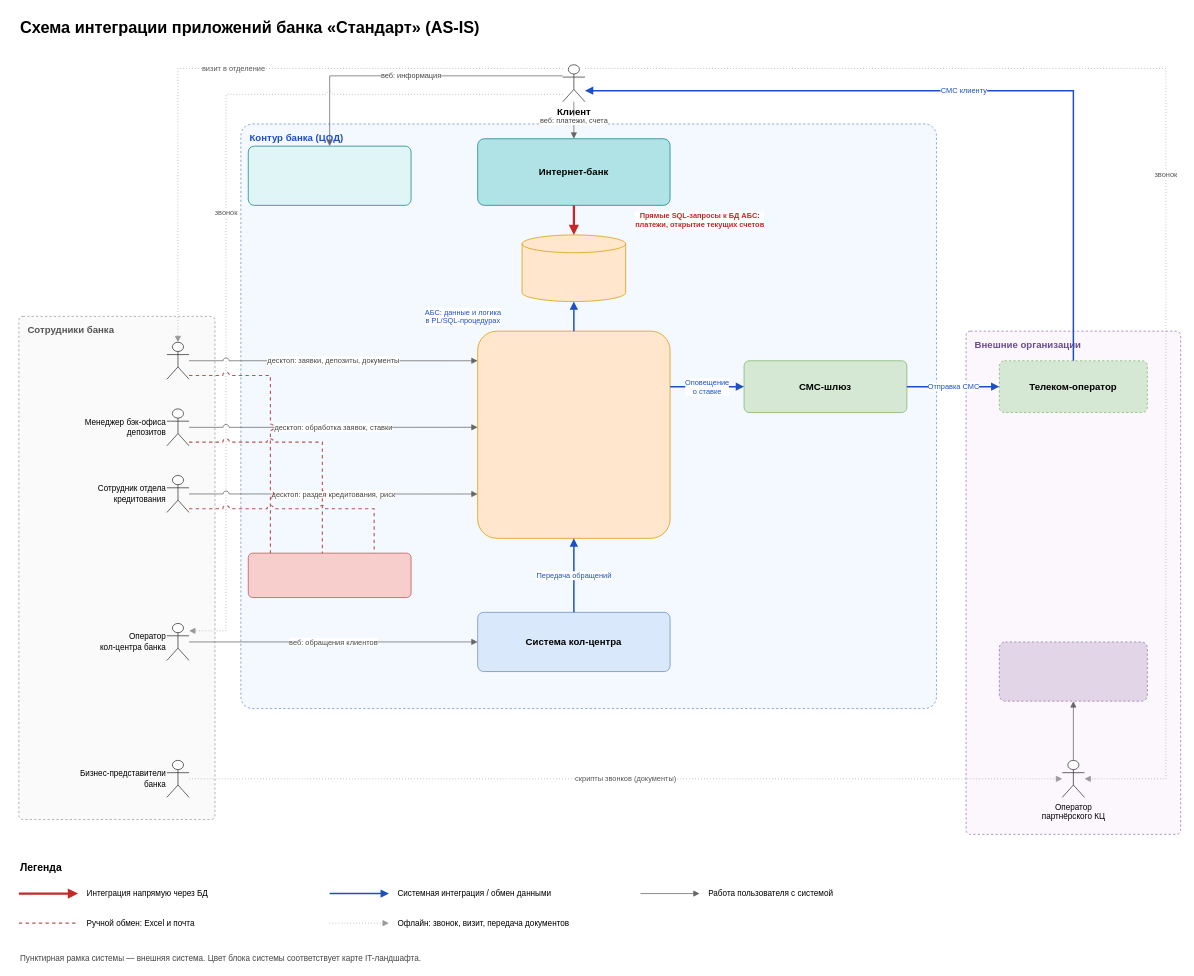
This 1194x976 diagram has some shape labels left out. The centre of each missing label's shape, as x and y in pixels:
"Excel / корпоративная почта" belongs at point (329, 575).
"АБС" belongs at point (573, 434).
"БД АБС Oracle" belongs at point (573, 268).
"Сайт" belongs at point (329, 175).
"Система партнёрского КЦ" belongs at point (1073, 671).
"Сотрудник отделения (фронт-офис)" belongs at point (177, 360).
